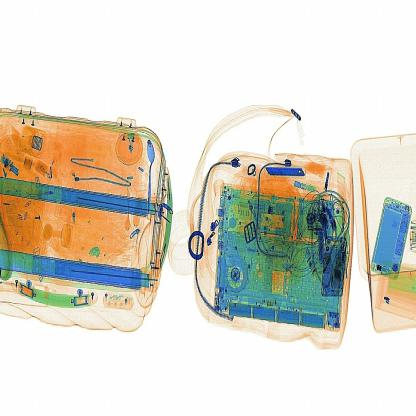pliers: (256, 156, 308, 187)
